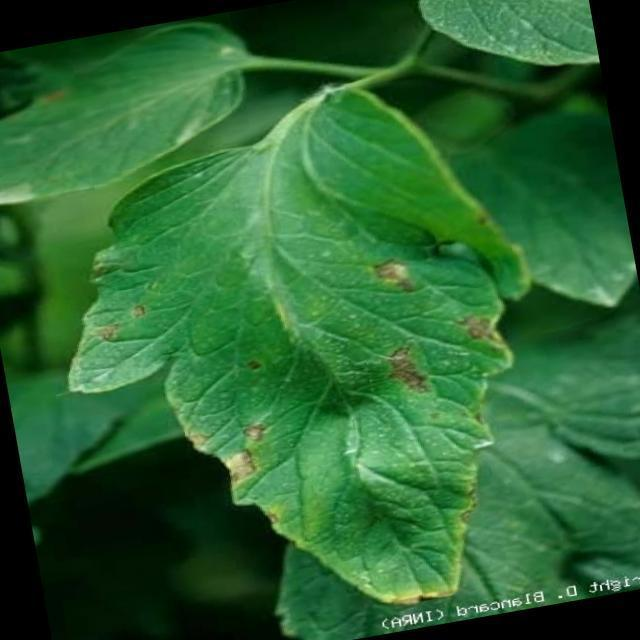Bacterial Spot: (180, 212, 517, 478)
